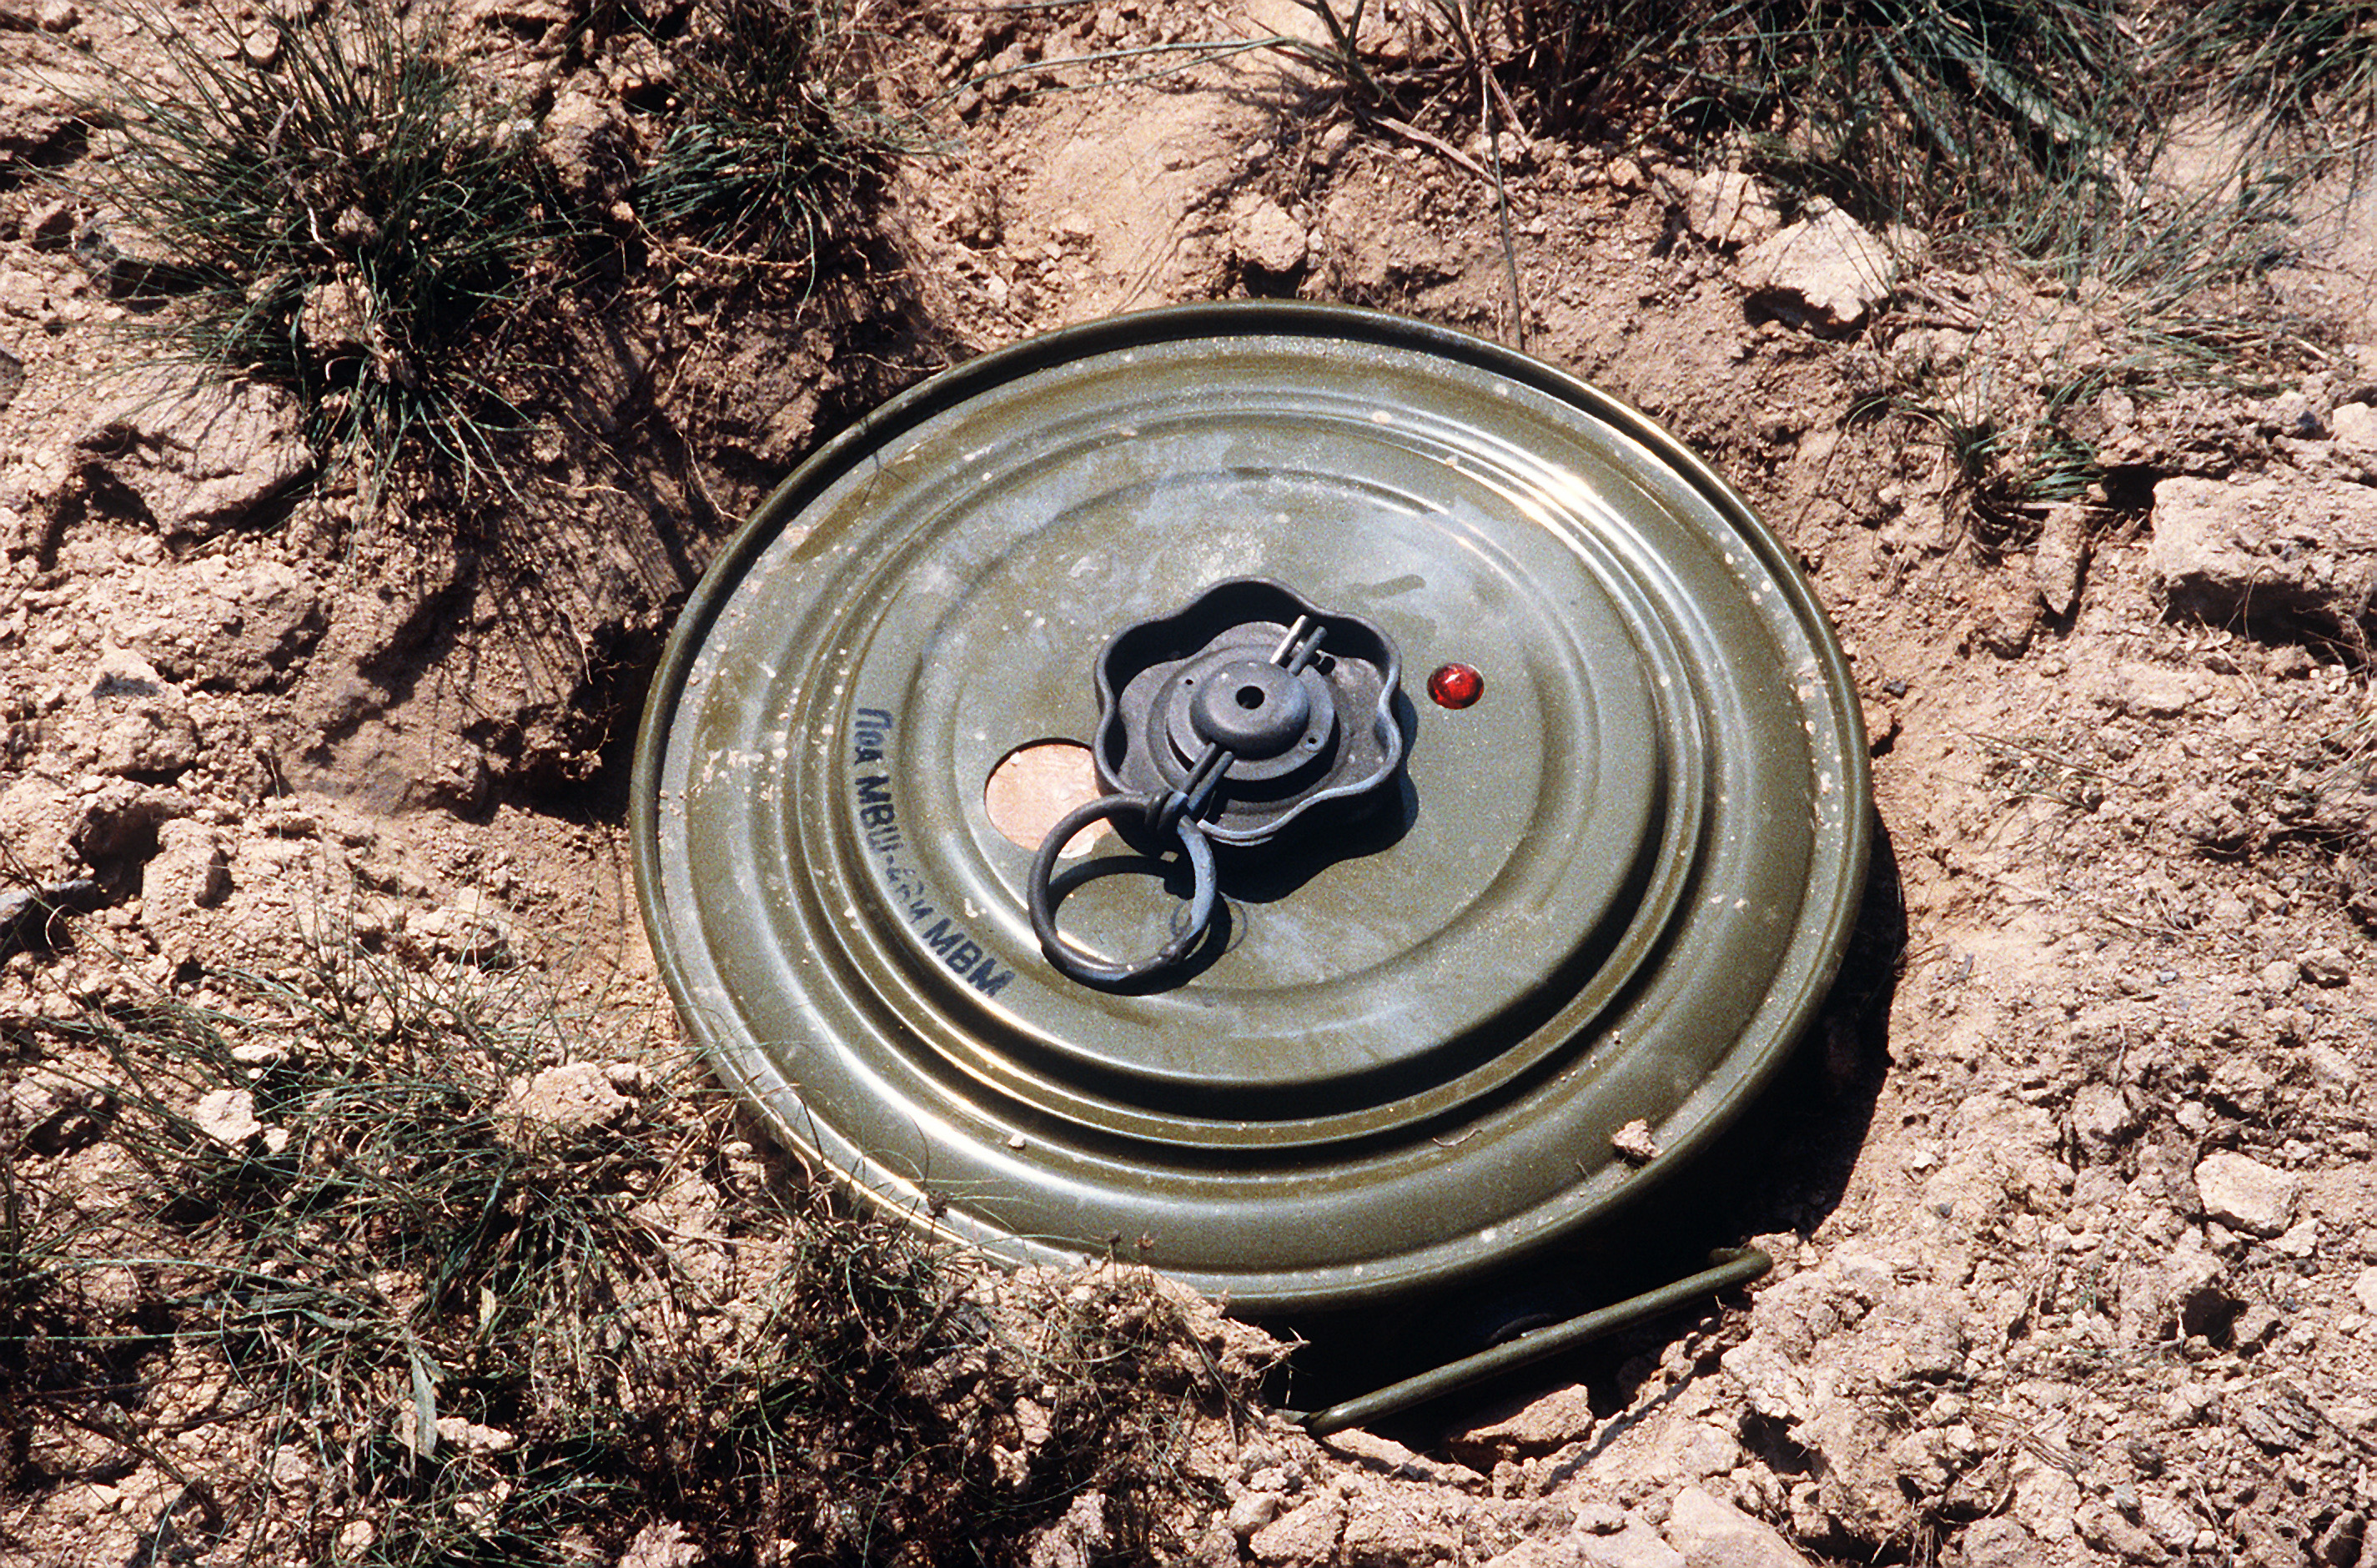car: (550, 229, 1958, 1440)
